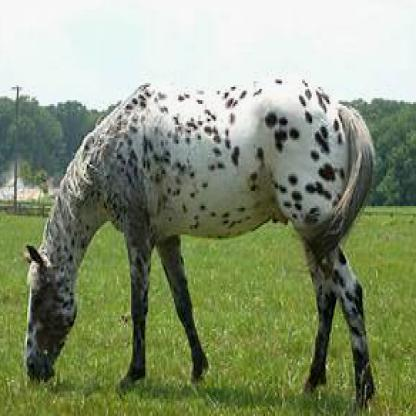horse: (22, 76, 378, 406)
